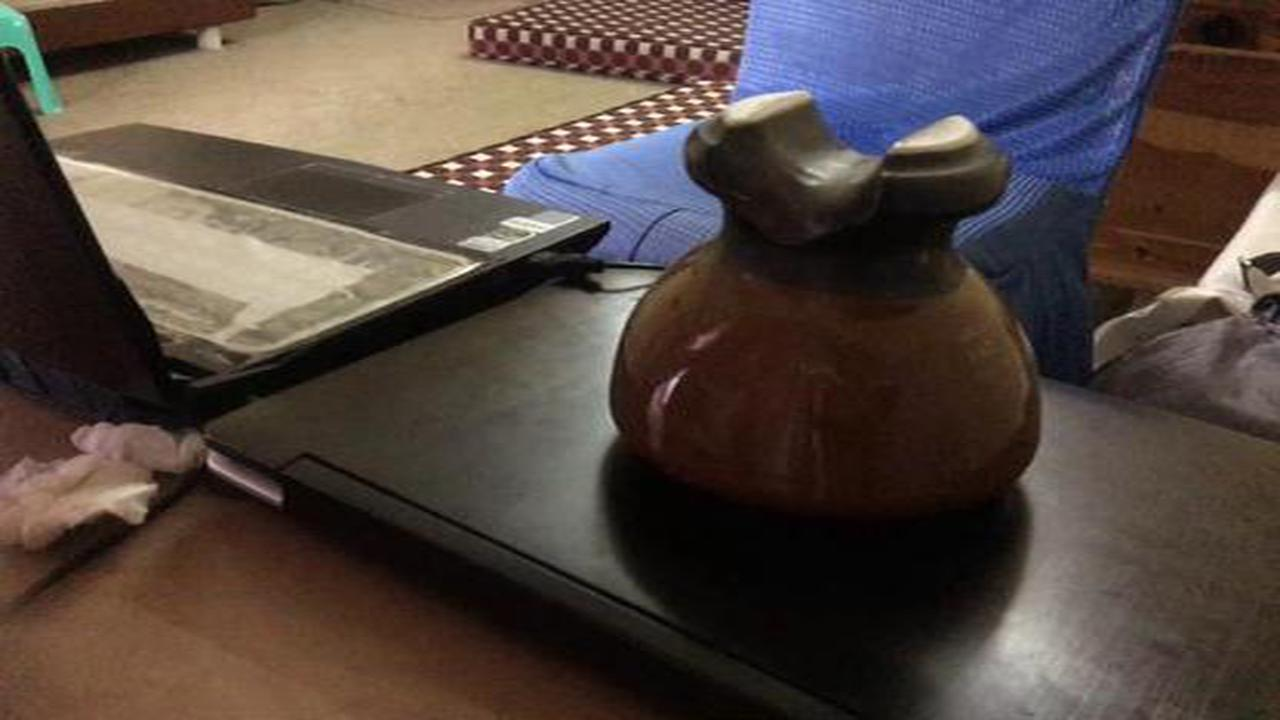insulator_pin: (597, 80, 1068, 549)
